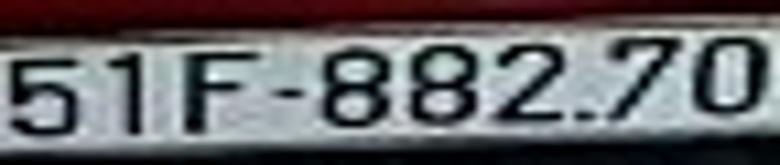-: (276, 86, 305, 101)
.: (606, 36, 680, 120), (575, 112, 595, 122)
0: (695, 37, 764, 115)
1: (105, 48, 144, 140)
2: (498, 40, 565, 121)
5: (8, 58, 78, 136)
8: (408, 42, 476, 127), (321, 47, 390, 127)
F: (184, 52, 256, 142)
